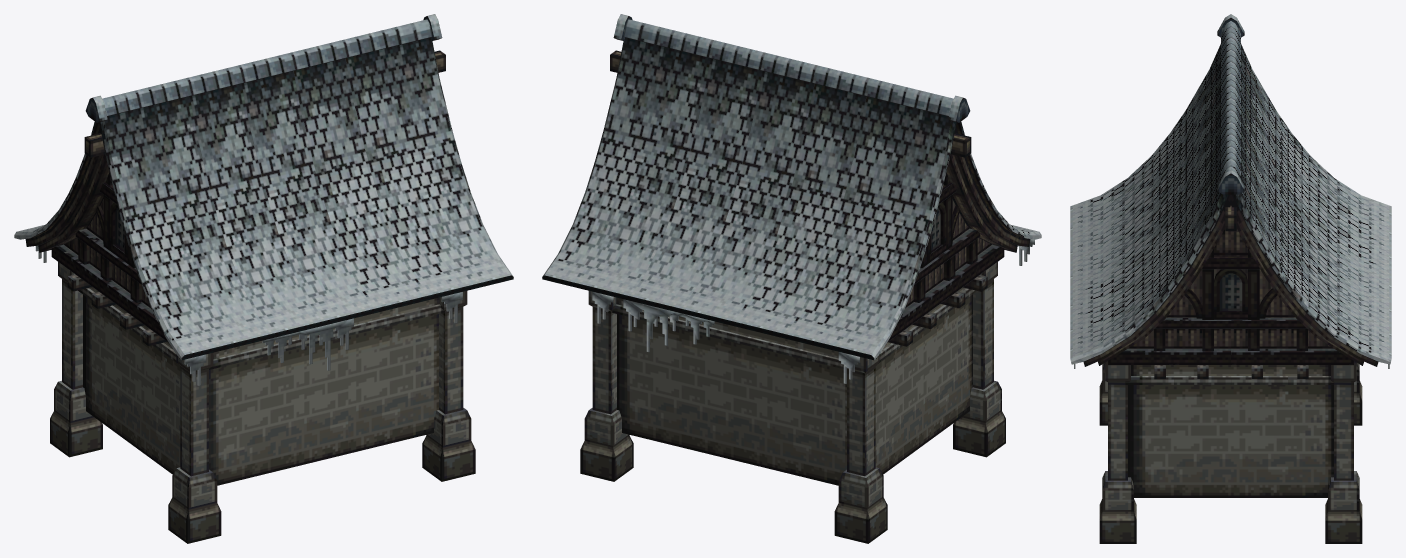
Rendered from EnvBdgMD_SnowHouse_A_Outdoor_House_B.FBX.
3 views of the same model, side by side, from view 1: azimuth 30°, elevation 25°; view 2: azimuth 150°, elevation 25°; view 3: azimuth 270°, elevation 25° (orthographic). The views are drawn at different scales.
Parts seen in each view (by area): view 1: EnvBdgMD_SnowHouse_A_Outdoor_House_B; view 2: EnvBdgMD_SnowHouse_A_Outdoor_House_B; view 3: EnvBdgMD_SnowHouse_A_Outdoor_House_B.
Boxes of the visible parts, x1=… form: EnvBdgMD_SnowHouse_A_Outdoor_House_B: x1=14, y1=14, x2=513, y2=543; EnvBdgMD_SnowHouse_A_Outdoor_House_B: x1=542, y1=14, x2=1041, y2=543; EnvBdgMD_SnowHouse_A_Outdoor_House_B: x1=1070, y1=14, x2=1391, y2=543.
Bounding box in the file's own units: 685 × 741 × 563.
1 material, 1 textured.
